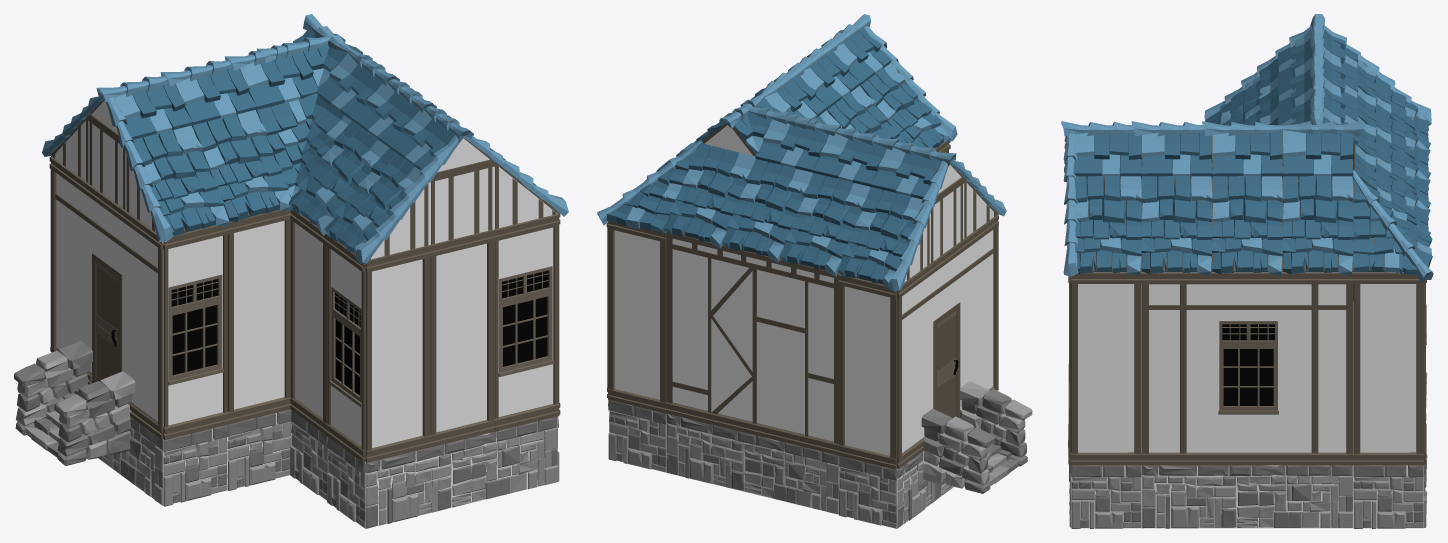
Rendered from house_11_full.glb.
3 views of the same model, side by side, from view 1: azimuth 30°, elevation 25°; view 2: azimuth 150°, elevation 25°; view 3: azimuth 270°, elevation 25° (orthographic). The views are drawn at different scales.
Visible parts, largest first — view 1: DOOR_05_2, WALL_03_8, WALL_03_7, WINDOW_04_5, WALL_03_10, WINDOW_04_3, FOUNDATION_02_16, STSAIRS_07_2, WINDOW_04_4, WALL_03_9, ROOF_base_4, ROOF_base_3 (+30 smaller); view 2: WALL_05_2, DOOR_05_2, WALL_03_4, WALL_03_3, FOUNDATION_02_18, STSAIRS_07_2, ROOF_base_14, ROOF_base_13, ROOF_base_12, ROOF_base_11, ROOF_corner_out_2, ROOF_base_6 (+23 smaller); view 3: WINDOW_03_2, WALL_03_6, WALL_03_5, FOUNDATION_02_17, ROOF_base_8, ROOF_base_10, ROOF_base_9, ROOF_base_7, ROOF_corner_out_2, FOUNDATION_03_13, FOUNDATION_03_12, ROOF_base_small_13 (+23 smaller).
Boxes of the visible parts, x1,y1,x2,y2 form: DOOR_05_2: (49, 156, 163, 439); WALL_03_8: (365, 245, 430, 462); WALL_03_7: (430, 229, 495, 447); WINDOW_04_5: (163, 225, 228, 439); WALL_03_10: (227, 209, 290, 424); WINDOW_04_3: (494, 214, 559, 431); FOUNDATION_02_16: (365, 416, 557, 528); STSAIRS_07_2: (14, 340, 135, 465); WINDOW_04_4: (325, 234, 365, 462); WALL_03_9: (290, 210, 327, 434); ROOF_base_4: (192, 110, 291, 221); ROOF_base_3: (132, 125, 229, 237); WALL_05_2: (665, 232, 838, 455); DOOR_05_2: (897, 215, 998, 468); WALL_03_4: (607, 221, 666, 413); WALL_03_3: (838, 274, 896, 469); FOUNDATION_02_18: (666, 413, 839, 514); STSAIRS_07_2: (921, 381, 1032, 493); ROOF_base_14: (664, 143, 755, 248); ROOF_base_13: (722, 159, 812, 262); ROOF_base_12: (779, 173, 870, 276); ROOF_base_11: (837, 187, 925, 289); ROOF_corner_out_2: (597, 140, 703, 233); ROOF_base_6: (860, 63, 949, 148); WINDOW_03_2: (1141, 272, 1353, 465); WALL_03_6: (1071, 272, 1141, 465); WALL_03_5: (1353, 272, 1423, 465); FOUNDATION_02_17: (1141, 465, 1353, 528); ROOF_base_8: (1141, 175, 1212, 276); ROOF_base_10: (1282, 175, 1353, 276); ROOF_base_9: (1211, 176, 1282, 276); ROOF_base_7: (1071, 174, 1141, 276); ROOF_corner_out_2: (1352, 170, 1433, 283); FOUNDATION_03_13: (1071, 465, 1141, 528); FOUNDATION_03_12: (1353, 465, 1423, 528); ROOF_base_small_13: (1282, 130, 1353, 178).
Bounding box in the file's own units: 6.29 × 5.65 × 5.28.
1 material, 1 textured.
